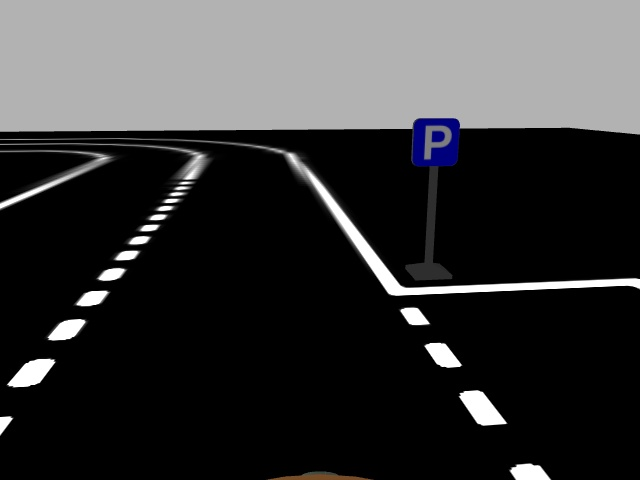parking: (411, 117, 460, 167)
